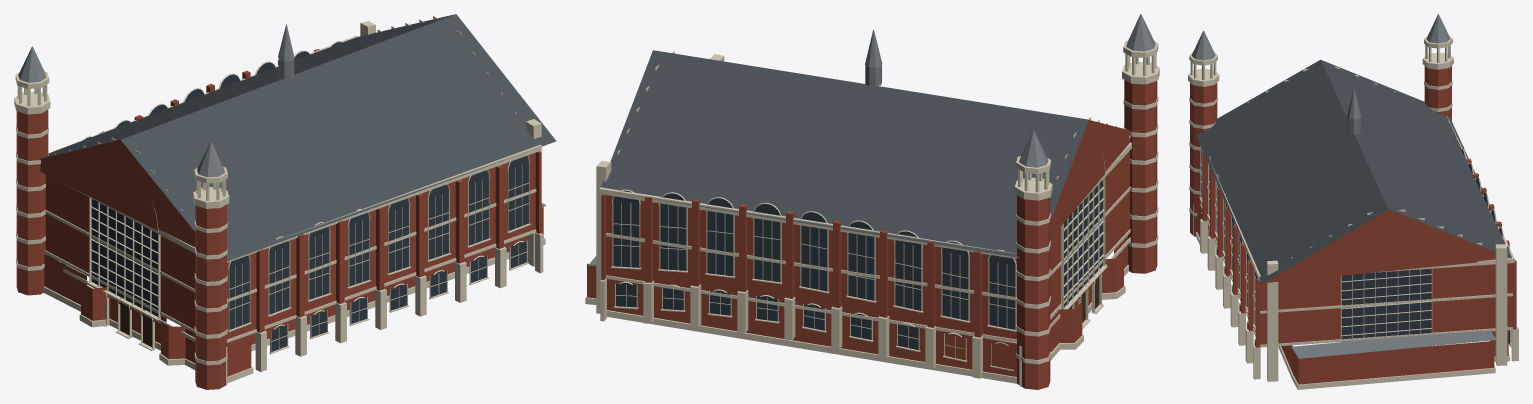
The model's file is holy_trinity_sloane_street.glb.
The picture shows the model from 3 angles, left to right: view 1: azimuth 30°, elevation 25°; view 2: azimuth 150°, elevation 25°; view 3: azimuth 270°, elevation 25°; orthographic projection. The views are drawn at different scales.
Size of the model in its own units: 56.55 by 30.6 by 43.43.
